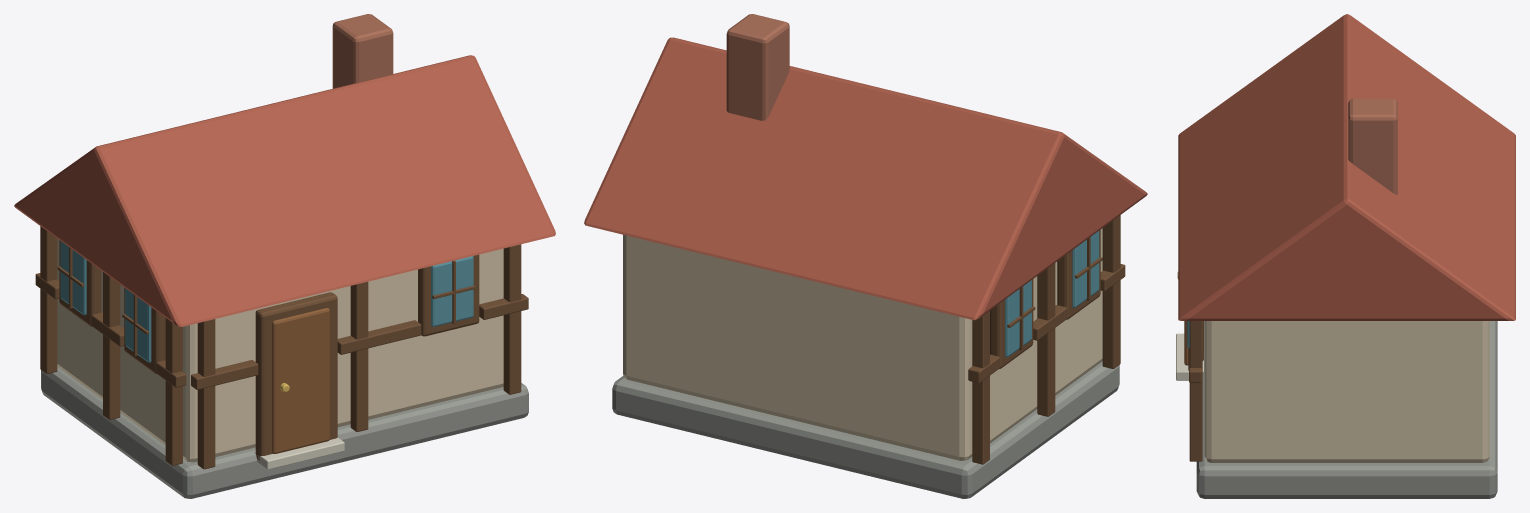
File: temperate-cottage-0.glb
The picture shows the model from 3 angles, left to right: view 1: azimuth 30°, elevation 25°; view 2: azimuth 150°, elevation 25°; view 3: azimuth 270°, elevation 25°; orthographic projection. The views are drawn at different scales.
Visible parts, largest first — view 1: Clay tiles, Ivory plaster, Dark beams, Foundation stone, Door oak, Blue glass, Chimney brick, Cut limestone; view 2: Clay tiles, Ivory plaster, Foundation stone, Dark beams, Chimney brick, Blue glass; view 3: Clay tiles, Ivory plaster, Foundation stone, Chimney brick, Dark beams, Cut limestone.
Boxes of the visible parts, x1=… form: Clay tiles: x1=14, y1=55, x2=555, y2=326; Ivory plaster: x1=57, y1=238, x2=503, y2=462; Dark beams: x1=35, y1=226, x2=528, y2=469; Foundation stone: x1=41, y1=366, x2=528, y2=498; Door oak: x1=272, y1=308, x2=329, y2=453; Blue glass: x1=60, y1=241, x2=473, y2=362; Chimney brick: x1=332, y1=14, x2=393, y2=88; Cut limestone: x1=254, y1=437, x2=344, y2=469; Clay tiles: x1=584, y1=37, x2=1147, y2=320; Ivory plaster: x1=623, y1=228, x2=1102, y2=460; Foundation stone: x1=612, y1=361, x2=1119, y2=498; Dark beams: x1=968, y1=215, x2=1125, y2=464; Chimney brick: x1=726, y1=14, x2=789, y2=120; Blue glass: x1=1005, y1=231, x2=1099, y2=357; Clay tiles: x1=1178, y1=14, x2=1515, y2=320; Ivory plaster: x1=1204, y1=321, x2=1489, y2=462; Foundation stone: x1=1196, y1=321, x2=1497, y2=498; Chimney brick: x1=1348, y1=98, x2=1397, y2=194; Dark beams: x1=1185, y1=321, x2=1203, y2=461; Cut limestone: x1=1176, y1=333, x2=1203, y2=380.
Size of the model in its own units: 3.44 by 3.02 by 2.62.
